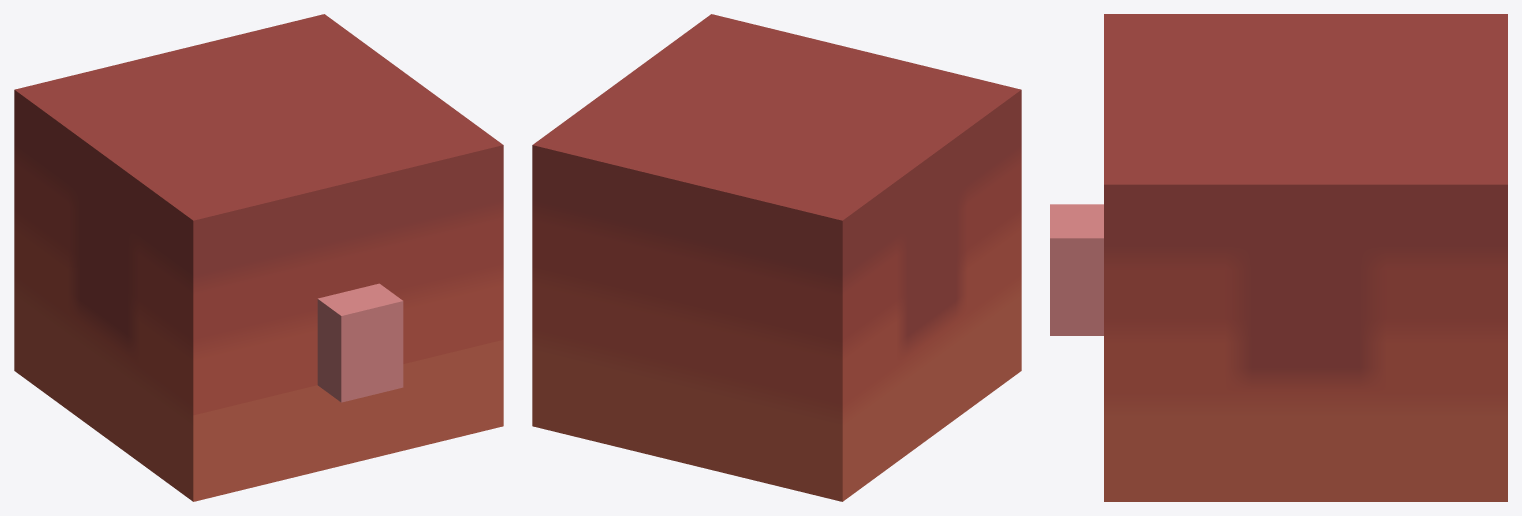
The model's file is devil_body.fbx.
3 views of the same model, side by side, from view 1: azimuth 30°, elevation 25°; view 2: azimuth 150°, elevation 25°; view 3: azimuth 270°, elevation 25° (orthographic). The views are drawn at different scales.
Visible parts, largest first — view 1: devil_body; view 2: devil_body; view 3: devil_body.
Part boxes in pixels (<box>): devil_body: <box>14,14,503,501</box>; devil_body: <box>532,14,1021,501</box>; devil_body: <box>1050,14,1507,501</box>.
Bounding box in the file's own units: 15 × 13 × 17.
Materials: 1 (1 with a texture image).
